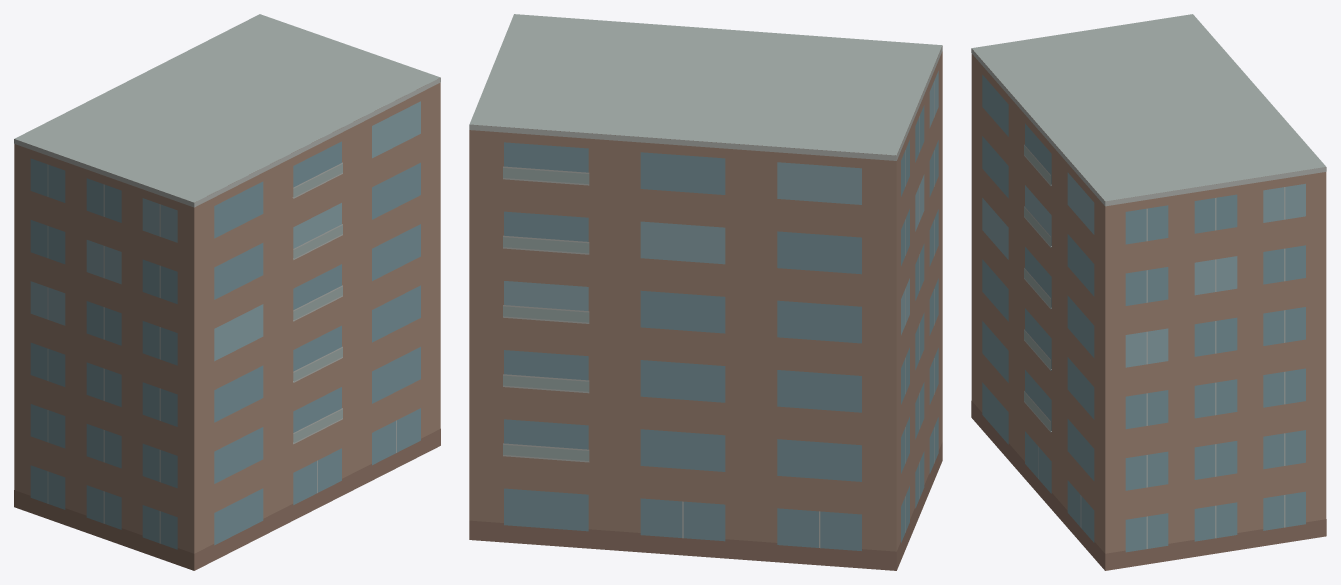
The model's file is survey-upis-32865235.glb.
The picture shows the model from 3 angles, left to right: view 1: azimuth 30°, elevation 25°; view 2: azimuth 150°, elevation 25°; view 3: azimuth 270°, elevation 25°; orthographic projection. The views are drawn at different scales.
Parts seen in each view (by area): view 1: survey-upis-32865235.tmp; view 2: survey-upis-32865235.tmp; view 3: survey-upis-32865235.tmp.
Boxes of the visible parts, bbox=[...] form: survey-upis-32865235.tmp: bbox=[14, 14, 440, 570]; survey-upis-32865235.tmp: bbox=[469, 14, 942, 570]; survey-upis-32865235.tmp: bbox=[971, 14, 1326, 570].
Bounding box in the file's own units: 19.92 × 18.3 × 15.95.
